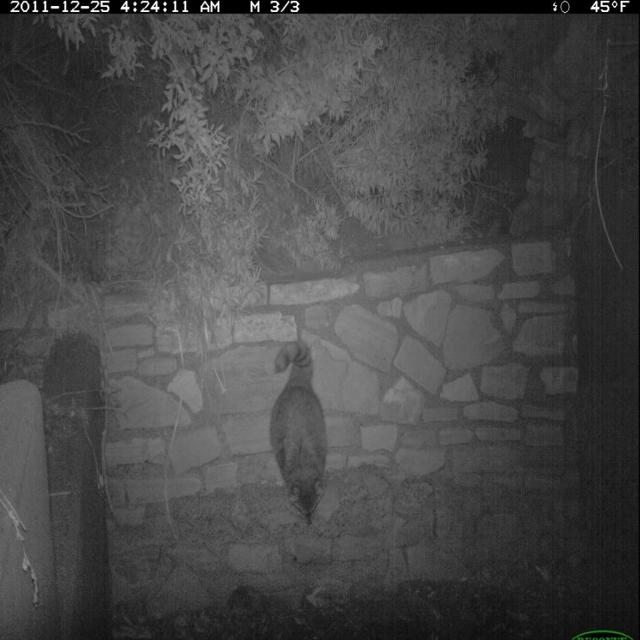raccoon: (262, 322, 342, 536)
